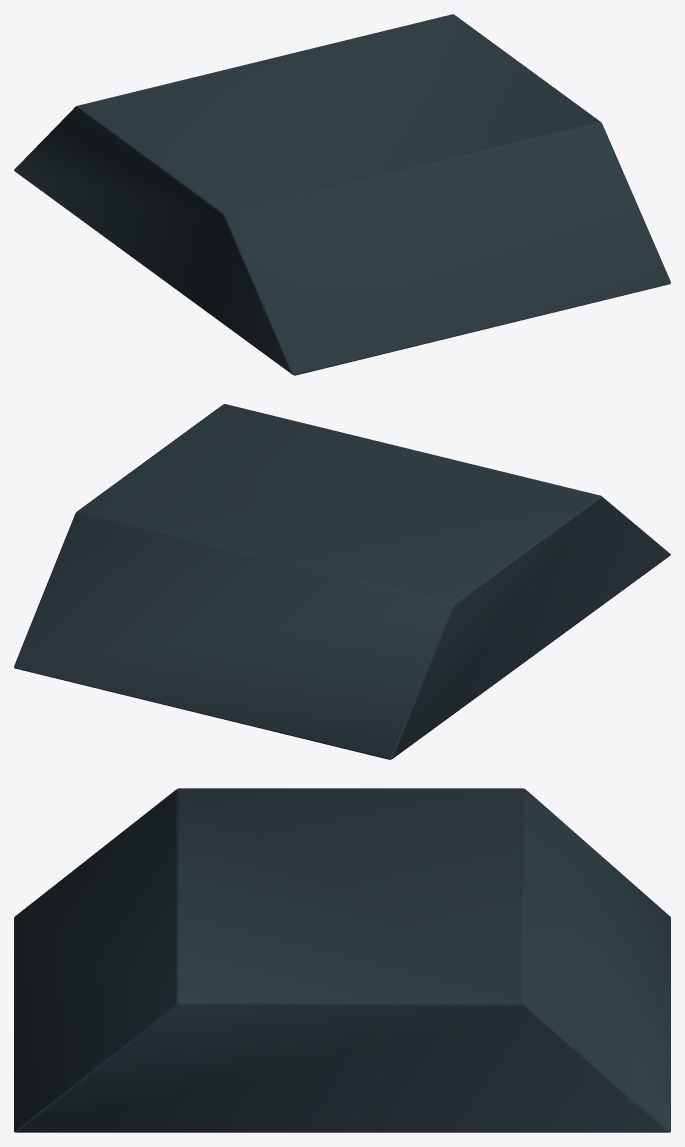
The model's file is Glass_Auto_Vidrios.fbx.
3 renders of one model, top to bottom at view 1: azimuth 30°, elevation 25°; view 2: azimuth 150°, elevation 25°; view 3: azimuth 270°, elevation 25°, orthographic. The views are drawn at different scales.
Visible parts, largest first — view 1: Auto_Vidrios; view 2: Auto_Vidrios; view 3: Auto_Vidrios.
Part boxes in pixels (x1,y1,x2,y2): Auto_Vidrios: (14,14,670,375); Auto_Vidrios: (14,404,670,759); Auto_Vidrios: (14,788,670,1132).
Bounding box in the file's own units: 5.9 × 1.65 × 7.57.
